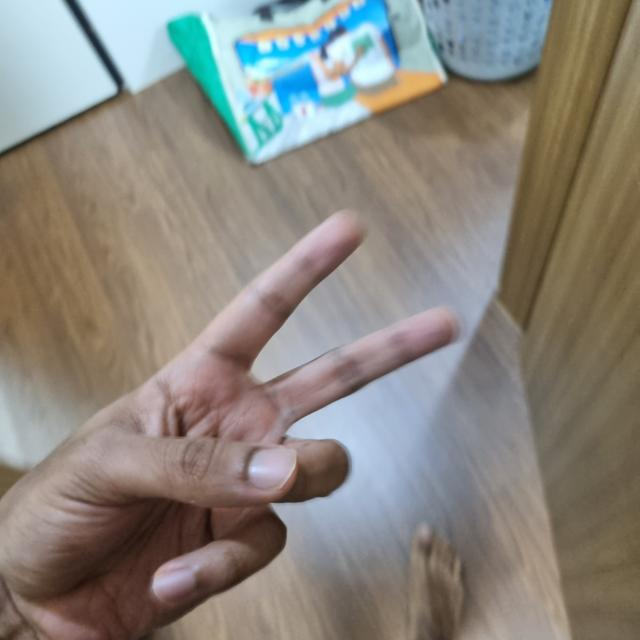Scissors: (2, 215, 447, 639)
